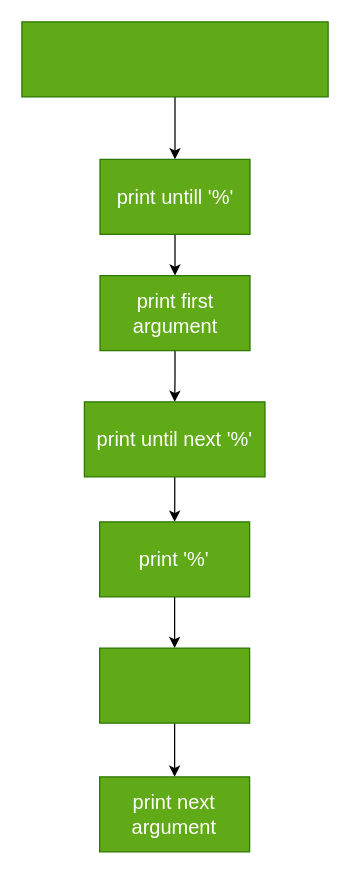
Some shapes in this 350 by 874 pixel diagram are drawn without their labels. The shapes that lost their labels are listed below. From the top down, each one's centre as x and y in pixels, then its label:
the point at 174,59: "test : %c test : %%%i"
the point at 174,685: print to next %
